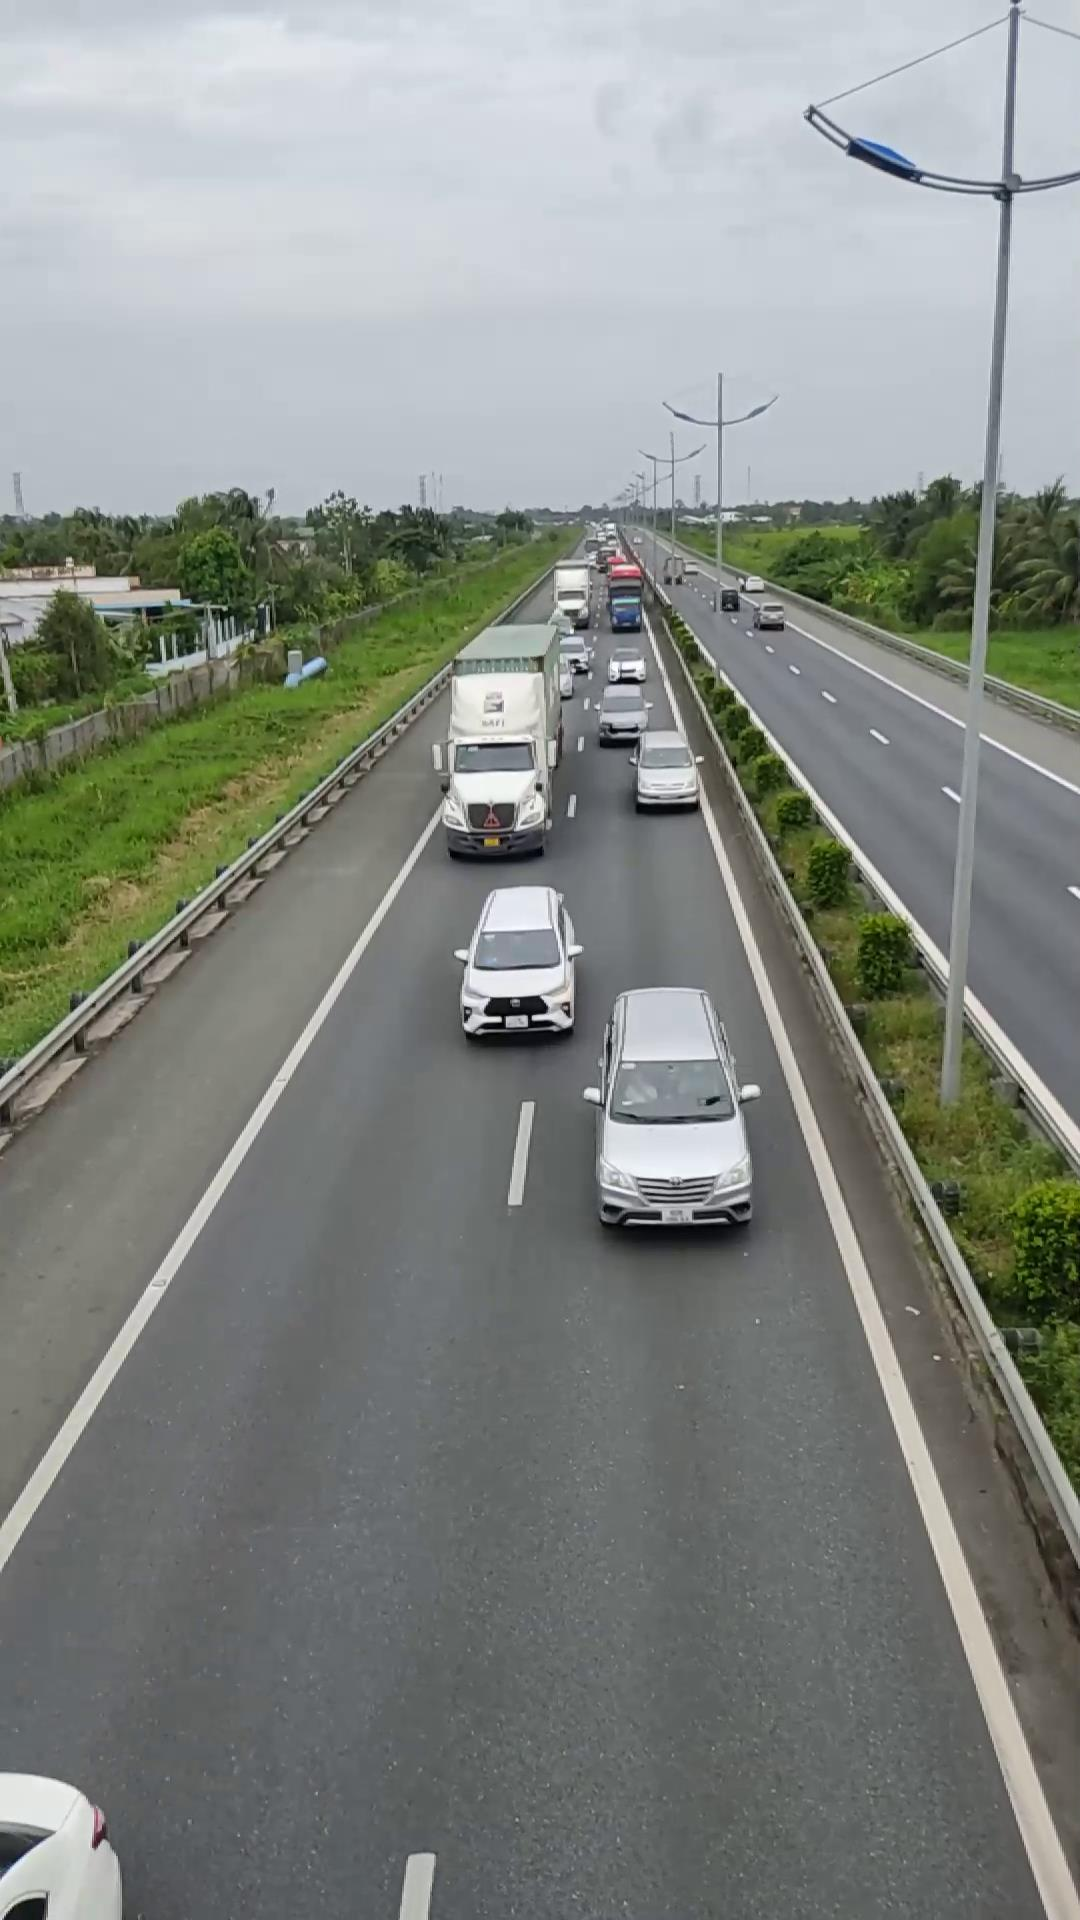car: (585, 984, 758, 1233), (454, 882, 582, 1040), (632, 731, 703, 810)
container: (438, 618, 567, 858)
motorcycle: (0, 1770, 144, 1919)
